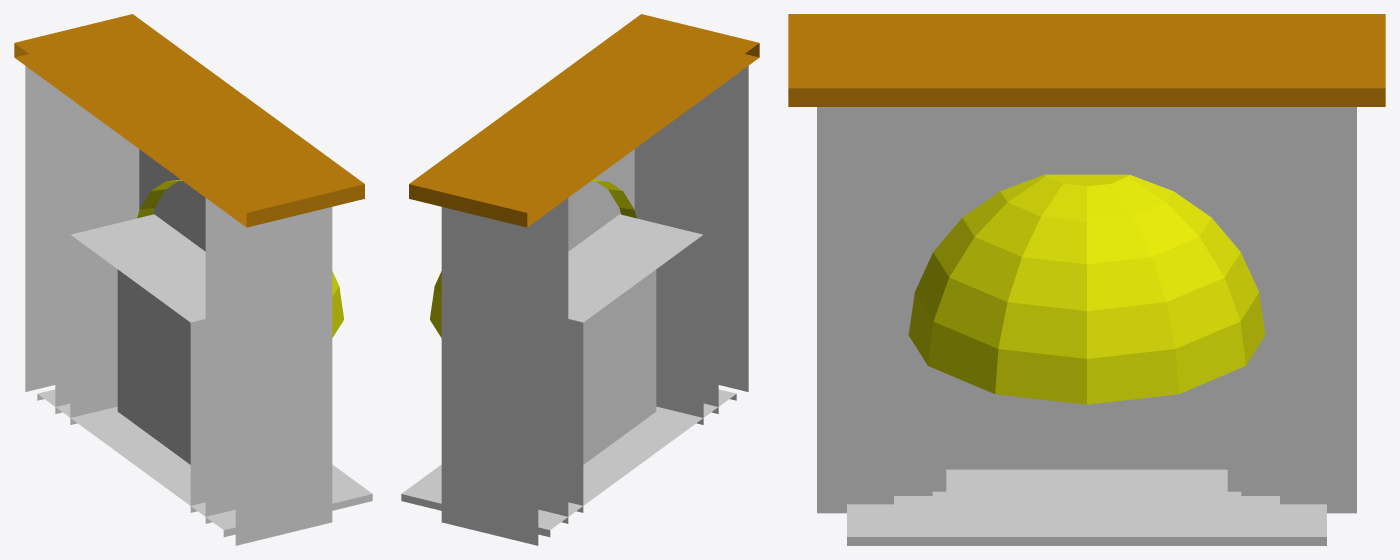
The model's file is Mesh_FirePlace_a01.fbx.
The picture shows the model from 3 angles, left to right: view 1: azimuth 30°, elevation 25°; view 2: azimuth 150°, elevation 25°; view 3: azimuth 270°, elevation 25°; orthographic projection. The views are drawn at different scales.
Visible parts, largest first — view 1: Mesh_FirePlace_a01; view 2: Mesh_FirePlace_a01; view 3: Mesh_FirePlace_a01.
Part boxes in pixels (box(x1,y1,x2,y2)): Mesh_FirePlace_a01: box(14, 14, 372, 545); Mesh_FirePlace_a01: box(401, 14, 759, 545); Mesh_FirePlace_a01: box(788, 14, 1385, 545).
Size of the model in its own units: 7.49 by 12.54 by 15.48.
